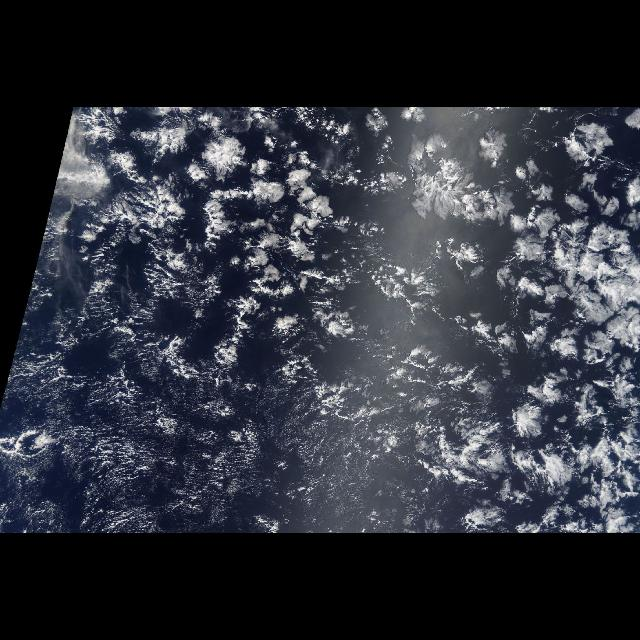Flower: (110, 107, 638, 517)
Sugar: (19, 371, 421, 525)
